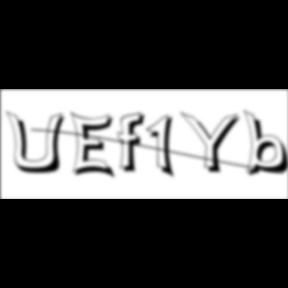1: (146, 114, 180, 182)
E: (70, 110, 120, 182)
U: (6, 110, 70, 176)
Y: (180, 110, 246, 176)
f: (118, 111, 152, 175)
